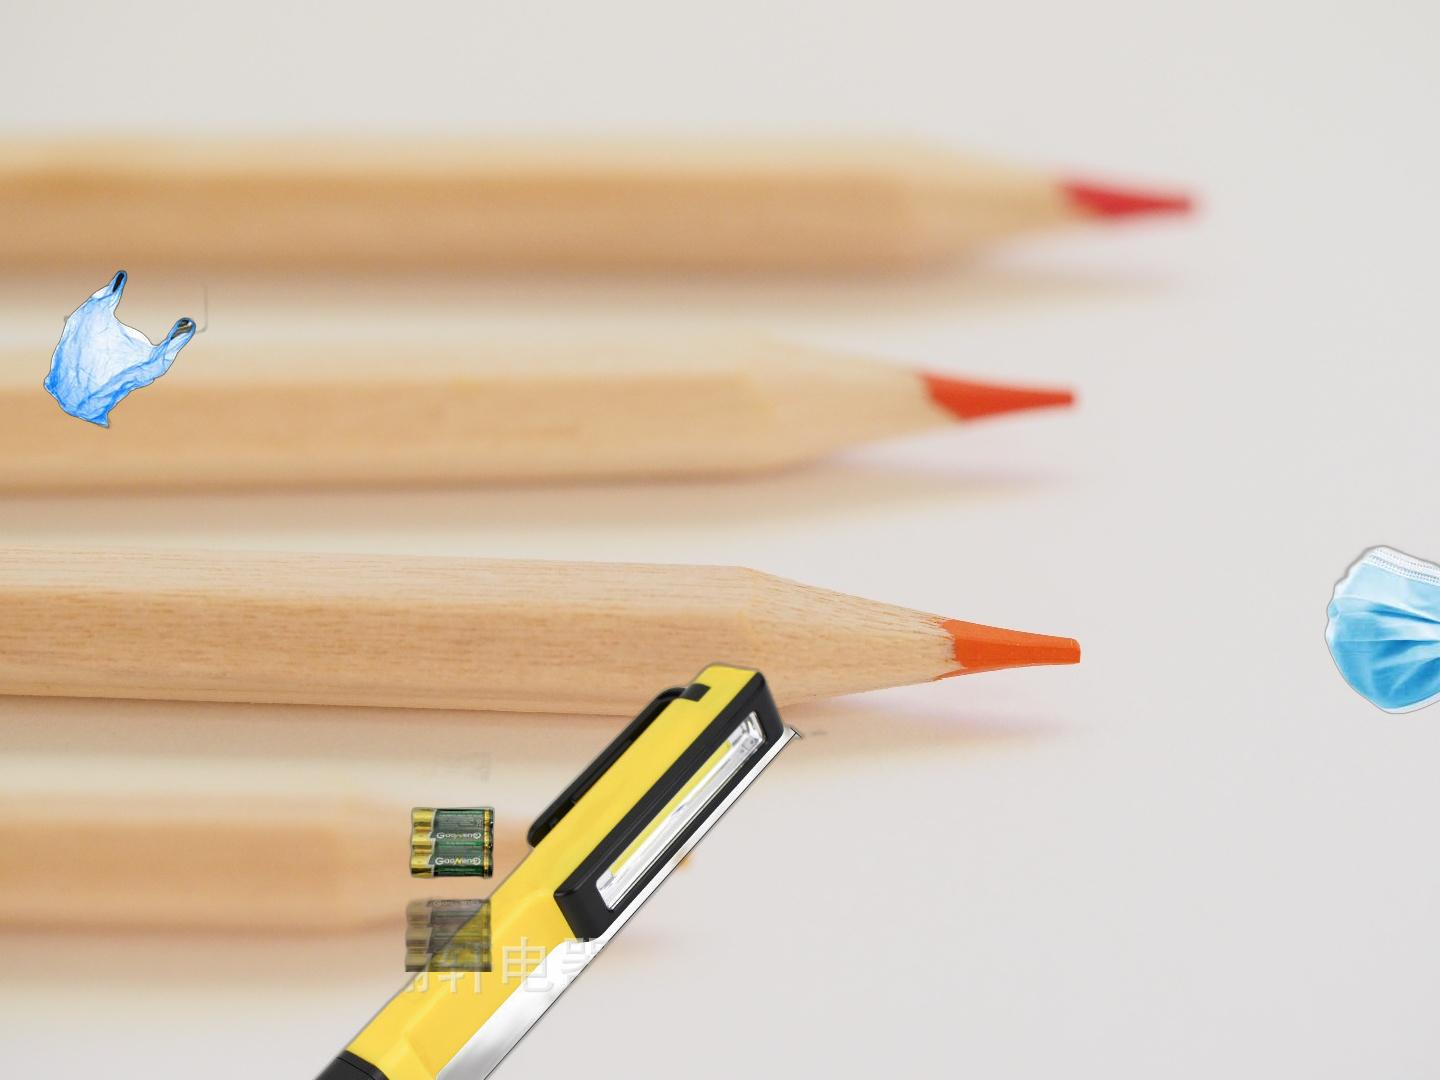battery: (373, 752, 500, 972)
penholder: (237, 653, 830, 1080)
plastic-bag: (41, 269, 215, 431)
trash: (1322, 532, 1440, 717)
